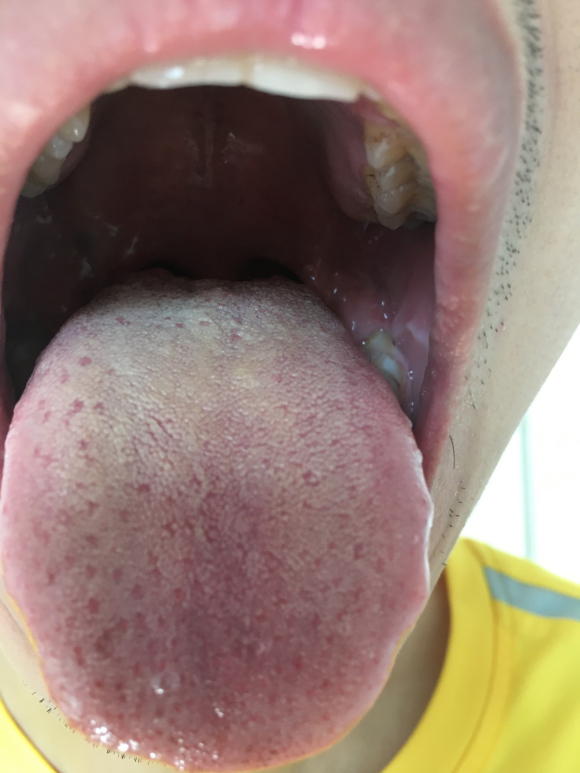baitaishe: (2, 269, 433, 773)
hongdianshe: (132, 479, 152, 495)
